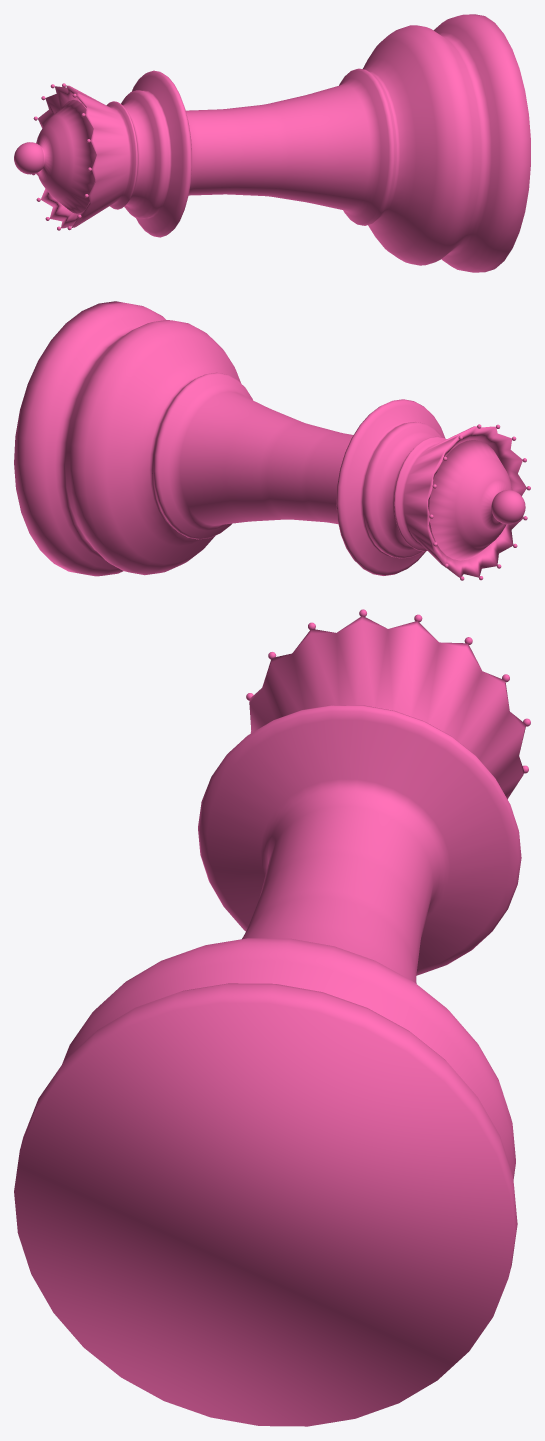
File: light_queen_2.fbx
The picture shows the model from 3 angles, top to bottom: view 1: azimuth 30°, elevation 25°; view 2: azimuth 150°, elevation 25°; view 3: azimuth 270°, elevation 25°; orthographic projection. The views are drawn at different scales.
Visible parts, largest first — view 1: Light Queen2; view 2: Light Queen2; view 3: Light Queen2.
Part boxes in pixels (x1=…): Light Queen2: x1=14, y1=14, x2=530, y2=272; Light Queen2: x1=14, y1=301, x2=530, y2=580; Light Queen2: x1=14, y1=609, x2=530, y2=1426.
Size of the model in its own units: 95.02 by 48.13 by 48.12.
